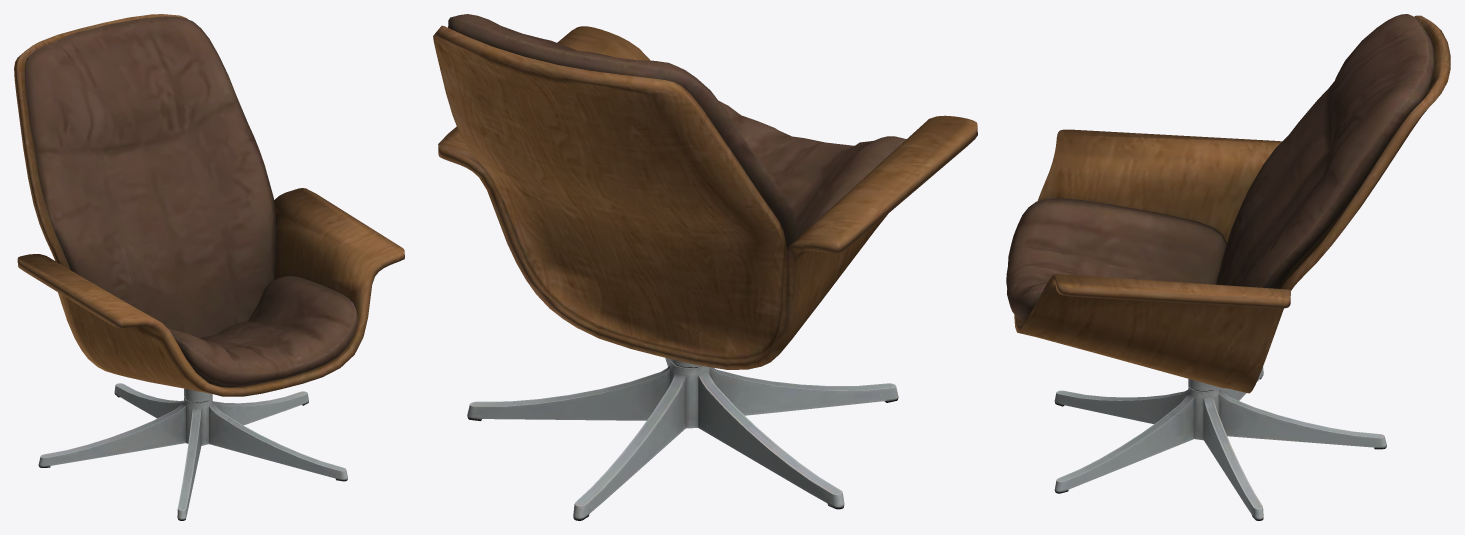
File: mid_century_lounge_chair.glb
3 views of the same model, side by side, from view 1: azimuth 30°, elevation 25°; view 2: azimuth 150°, elevation 25°; view 3: azimuth 270°, elevation 25° (orthographic). The views are drawn at different scales.
Parts seen in each view (by area): view 1: mid_century_lounge_chair; view 2: mid_century_lounge_chair; view 3: mid_century_lounge_chair.
Boxes of the visible parts, x1,y1,x2,y2 form: mid_century_lounge_chair: [14, 14, 404, 520]; mid_century_lounge_chair: [433, 14, 977, 520]; mid_century_lounge_chair: [1006, 14, 1450, 520].
Bounding box in the file's own units: 1.01 × 1.17 × 1.19.
Materials: 1 (1 with a texture image).
